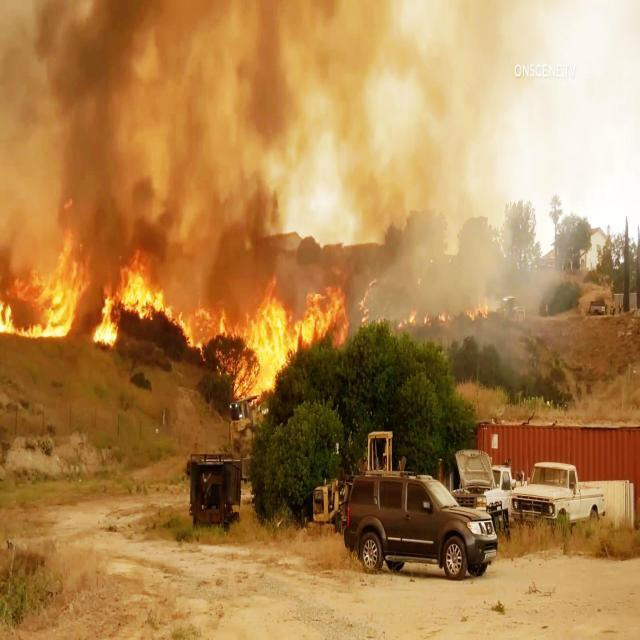Fire: (233, 247, 321, 403), (14, 222, 92, 330), (108, 233, 195, 320)
Smoke: (10, 15, 152, 210)
